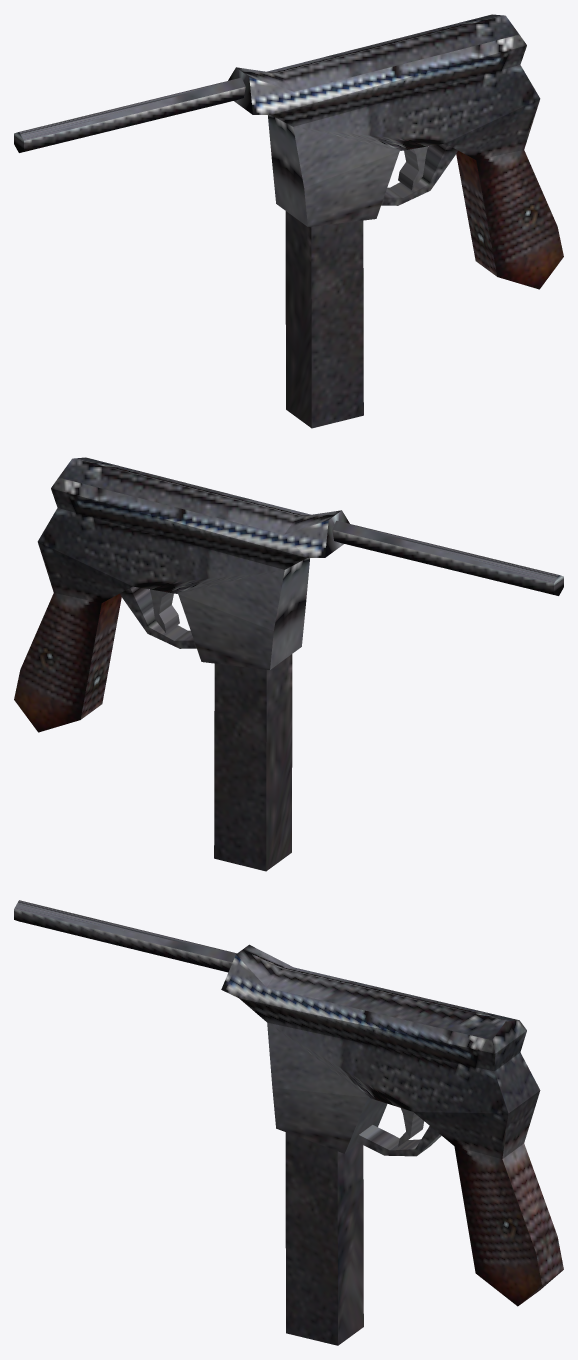
Rendered from mauser.fbx.
3 renders of one model, top to bottom at view 1: azimuth 30°, elevation 25°; view 2: azimuth 150°, elevation 25°; view 3: azimuth 330°, elevation 25°, orthographic.
Parts seen in each view (by area): view 1: Cube, Cube.001; view 2: Cube, Cube.001; view 3: Cube, Cube.001.
Boxes of the visible parts, x1=… form: Cube: x1=14, y1=14, x2=563, y2=289; Cube.001: x1=285, y1=211, x2=363, y2=428; Cube: x1=14, y1=457, x2=563, y2=732; Cube.001: x1=214, y1=654, x2=292, y2=871; Cube: x1=14, y1=900, x2=563, y2=1306; Cube.001: x1=285, y1=1132, x2=363, y2=1345.
Bounding box in the file's own units: 831 × 536 × 85.77.
